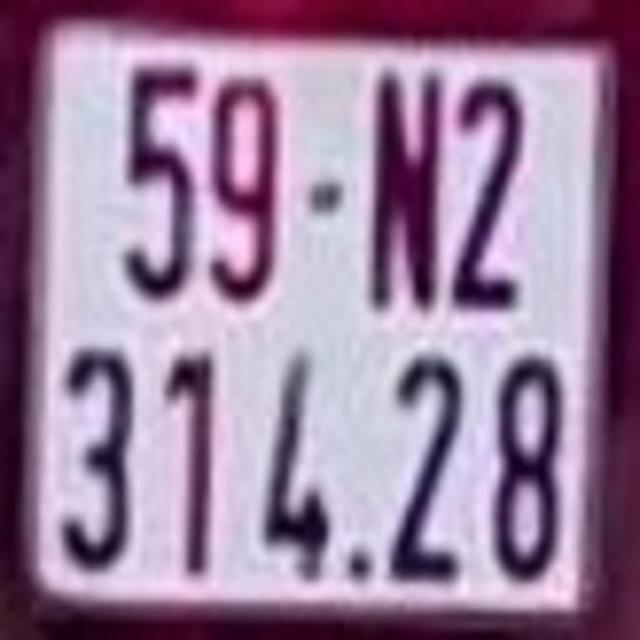1: (162, 349, 217, 574)
2: (390, 354, 460, 581), (453, 77, 520, 312)
3: (61, 344, 134, 571)
4: (260, 349, 332, 582)
5: (124, 62, 198, 299)
8: (494, 358, 560, 581)
9: (210, 74, 278, 301)
N: (370, 74, 440, 309)
